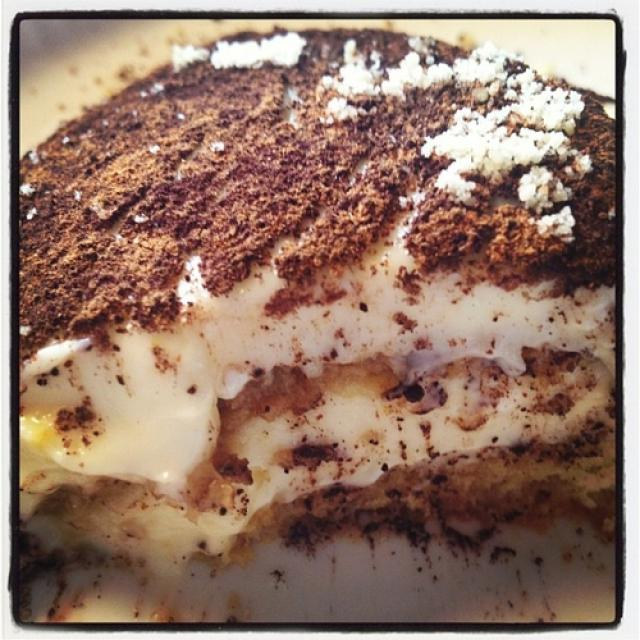蛋糕甜品: (26, 37, 613, 602)
